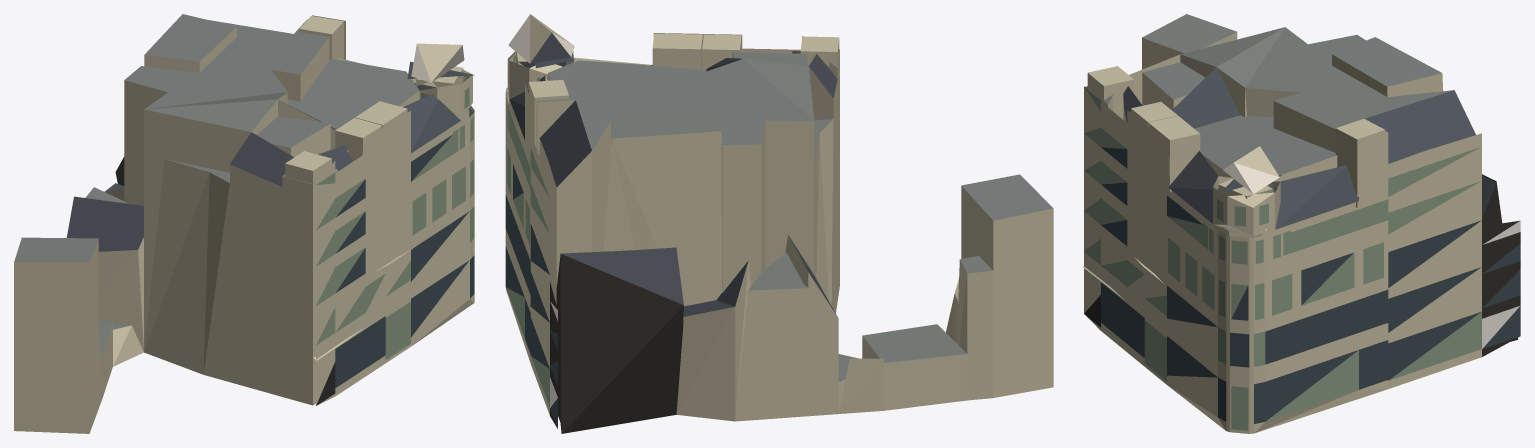
Rendered from nieuw-engeland.lod2.glb.
3 views of the same model, side by side, from view 1: azimuth 30°, elevation 25°; view 2: azimuth 150°, elevation 25°; view 3: azimuth 270°, elevation 25° (orthographic). The views are drawn at different scales.
Parts seen in each view (by area): view 1: lod2; view 2: lod2; view 3: lod2.
Boxes of the visible parts, bbox=[...] form: lod2: bbox=[14, 14, 474, 433]; lod2: bbox=[505, 14, 1053, 433]; lod2: bbox=[1083, 14, 1520, 433].
Size of the model in its own units: 50.27 by 25.55 by 38.27.
